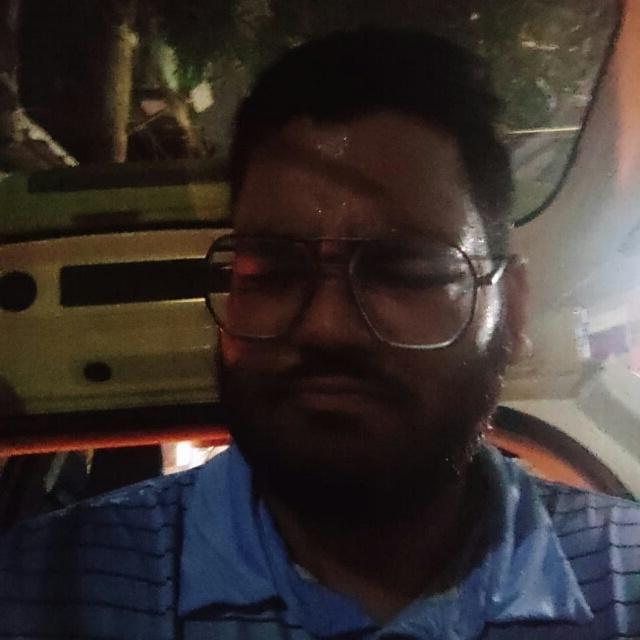Disgust: (200, 107, 535, 519)
